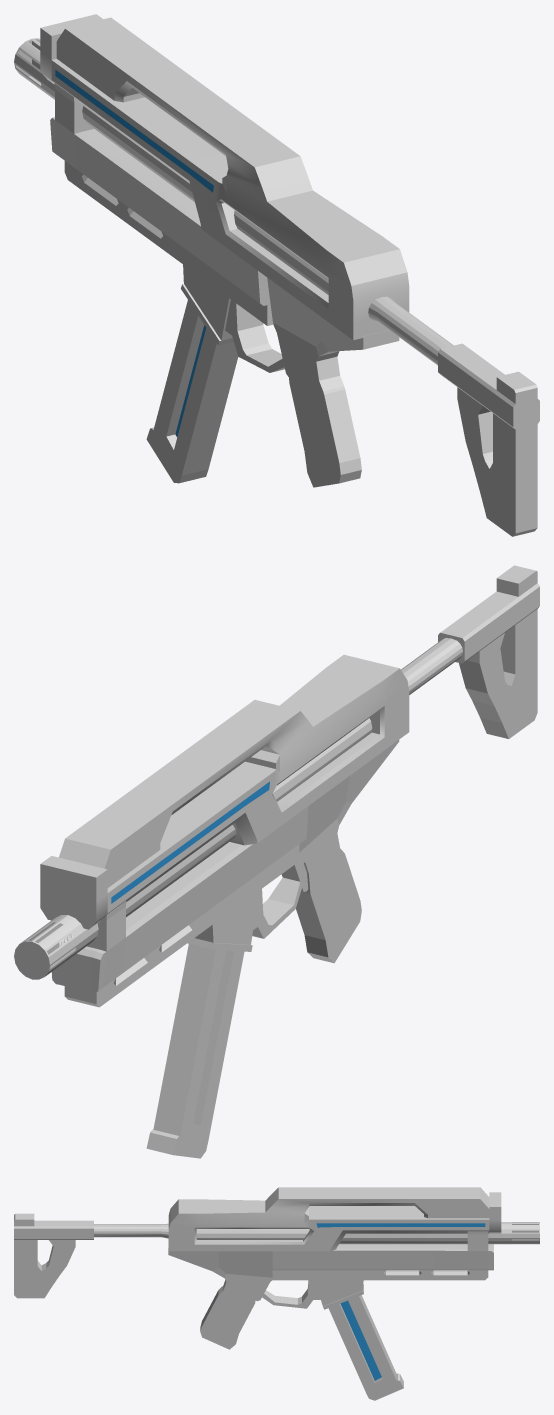
File: SMG.fbx
3 views of the same model, one above another, from view 1: azimuth 30°, elevation 25°; view 2: azimuth 150°, elevation 25°; view 3: azimuth 270°, elevation 25° (orthographic). The views are drawn at different scales.
Parts seen in each view (by area): view 1: SMG; view 2: SMG; view 3: SMG.
Boxes of the visible parts, box(x1,y1,x2,y2) form: SMG: box(14, 14, 539, 536); SMG: box(14, 565, 539, 1158); SMG: box(14, 1187, 539, 1400).
Bounding box in the file's own units: 30.38 × 199 × 464.
